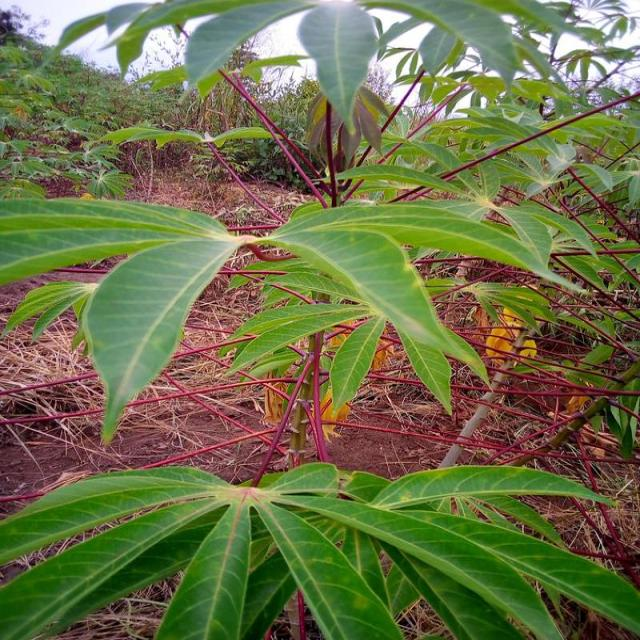cassava leaf: (1, 460, 638, 638), (267, 201, 491, 416), (80, 229, 239, 444), (296, 0, 379, 135)
